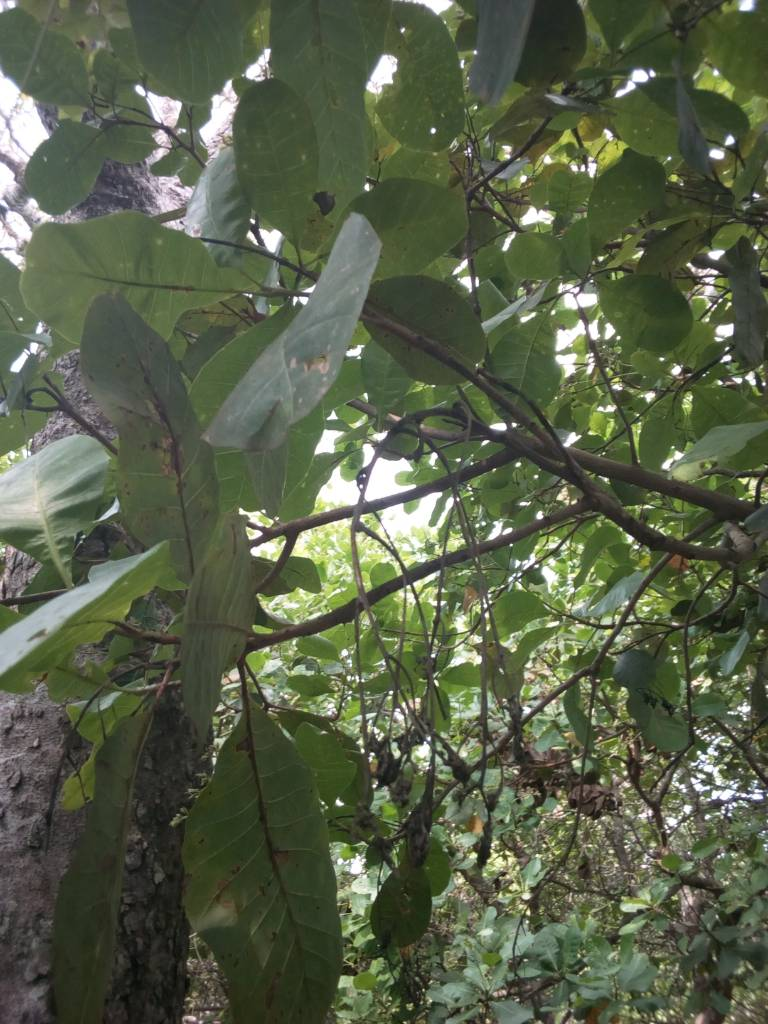Anthracnose: (185, 705, 341, 1024), (79, 288, 211, 578)
